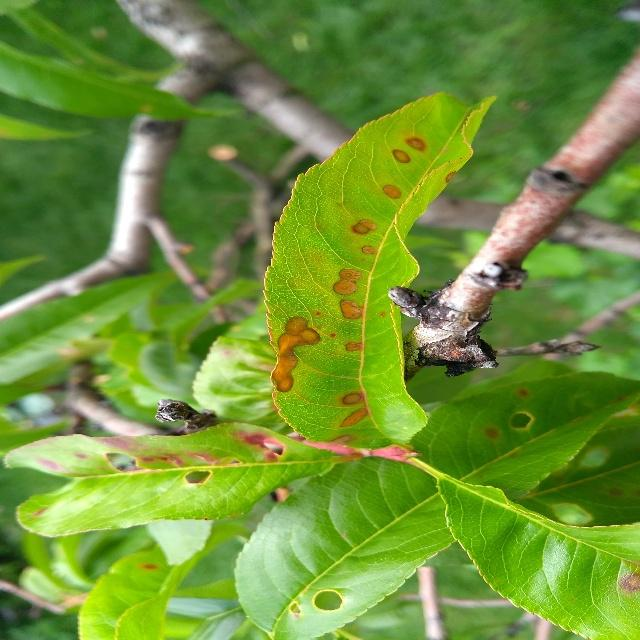leaf_spot: (258, 100, 438, 431)
shot_hole: (250, 512, 377, 640), (467, 376, 594, 504), (95, 415, 222, 543)
